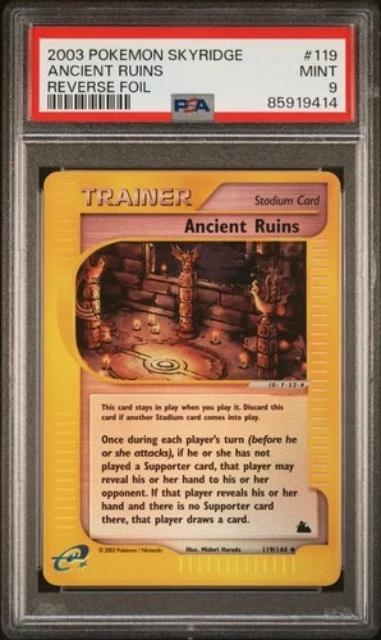Card: (39, 165, 348, 593)
Name: (179, 214, 307, 239)
